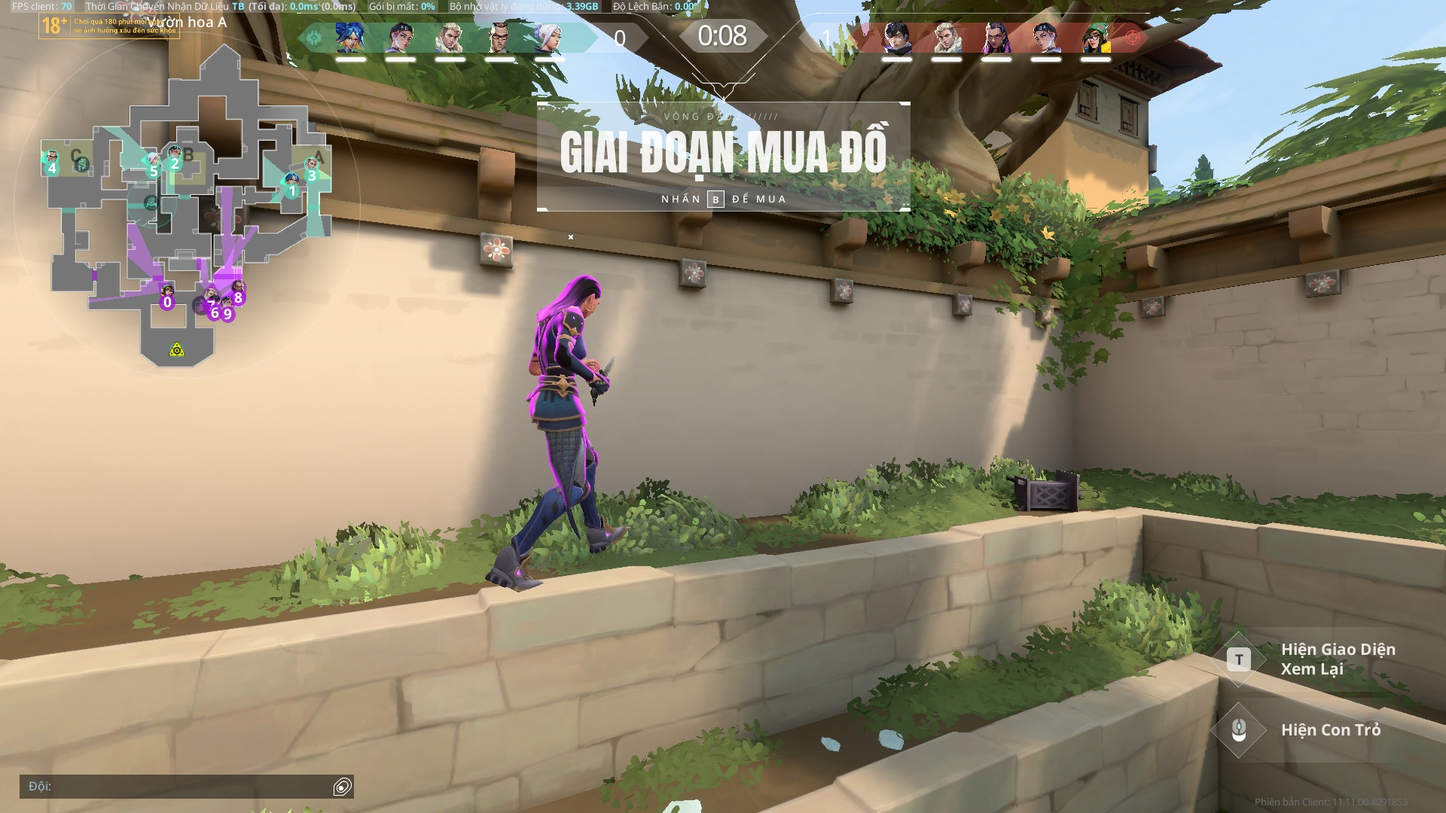body: (535, 306, 588, 372)
head: (569, 270, 606, 318)
